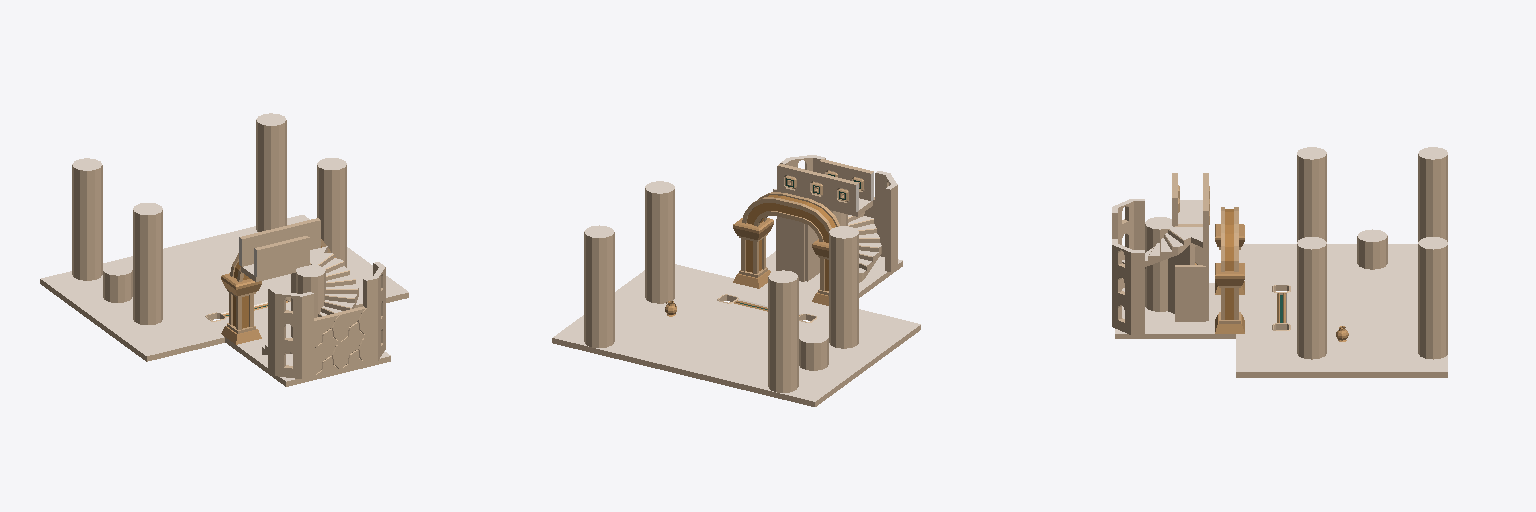
The model's file is thing.obj.
The picture shows the model from 3 angles: view 1: azimuth 30°, elevation 25°; view 2: azimuth 150°, elevation 25°; view 3: azimuth 270°, elevation 25°; orthographic projection.
Parts seen in each view (by area): view 1: mergedBlocks; view 2: mergedBlocks; view 3: mergedBlocks.
Boxes of the visible parts, <box> form: mergedBlocks: <box>40,113,408,386</box>; mergedBlocks: <box>552,155,920,406</box>; mergedBlocks: <box>1112,147,1447,377</box>.
Size of the model in its own units: 10 by 4.2 by 11.1.